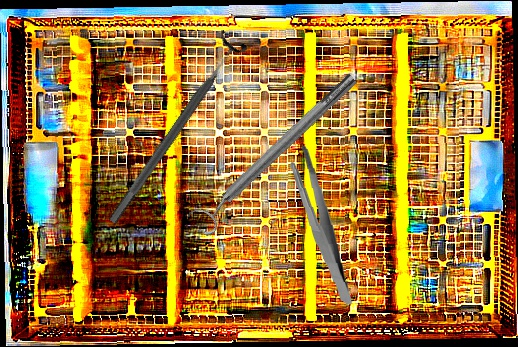Dressing Forceps: (289, 143, 353, 308)
Fixation Ring: (184, 66, 367, 239), (97, 28, 250, 232)
